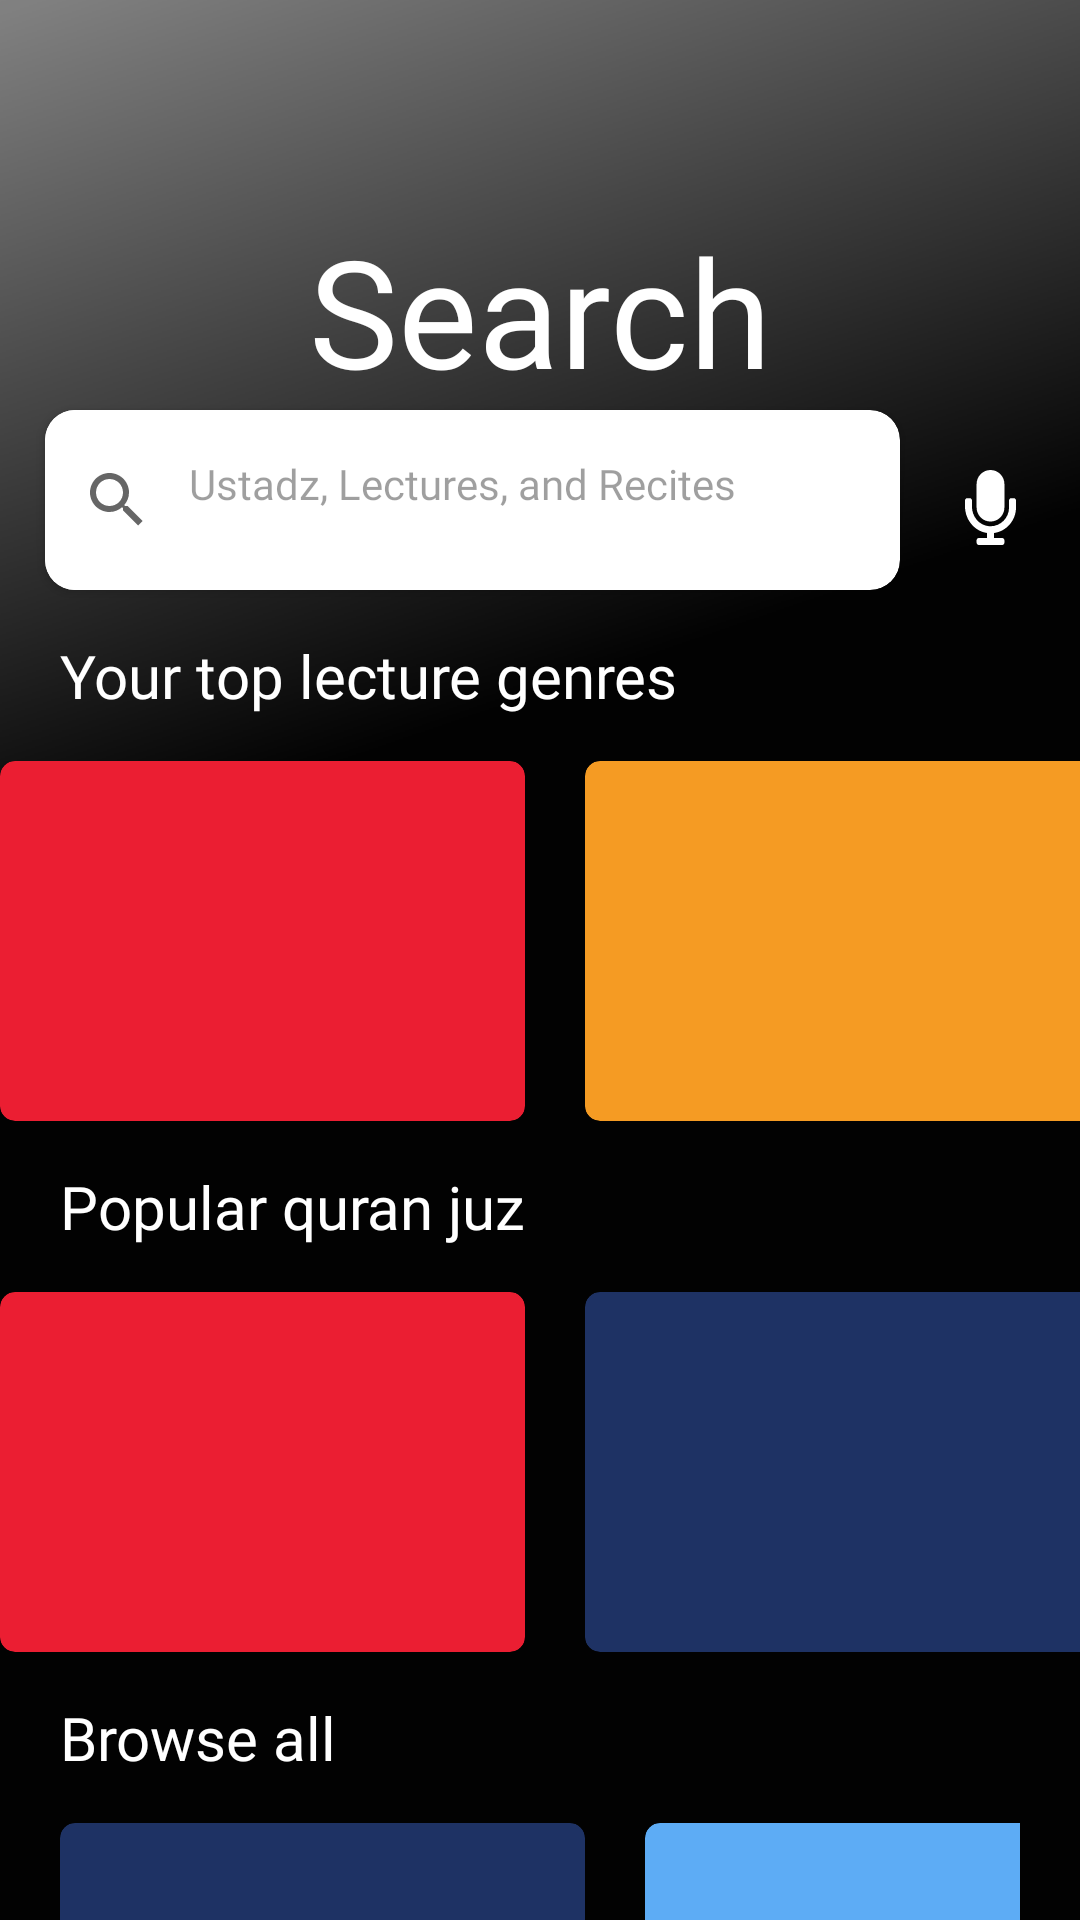

Locate icon controls on the screen. Image size 1080*1920, boxes as (left=x1, top=y1, right=x2, bottom=y2).
microphone: (left=965, top=470, right=1016, bottom=545)
